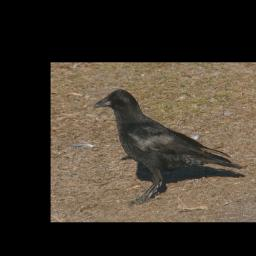Crow: (97, 88, 244, 206)
